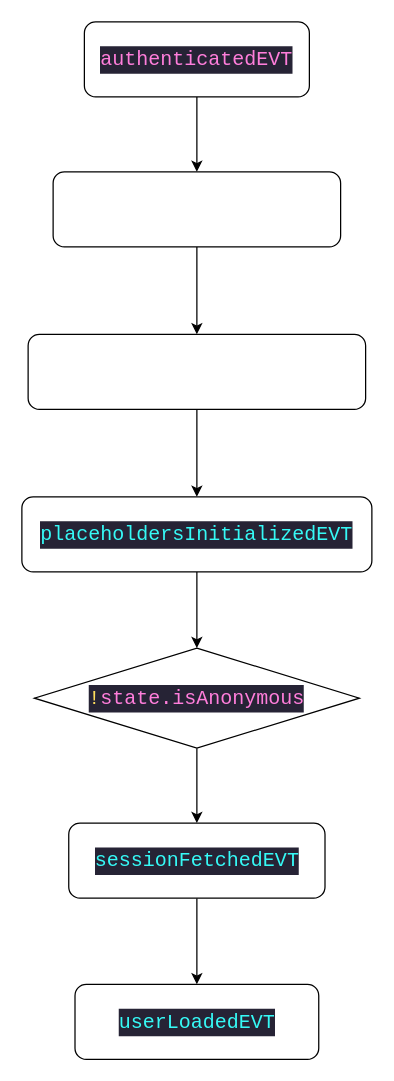
This 394x1081 diagram has some shape labels left out. The shapes that lost their labels are listed below. From the top down, each one's centre as x and y in pixels, then its label:
At point 196,209: "configFetchedEVT".
At point 196,371: "placeholdersLoadedEVT".
